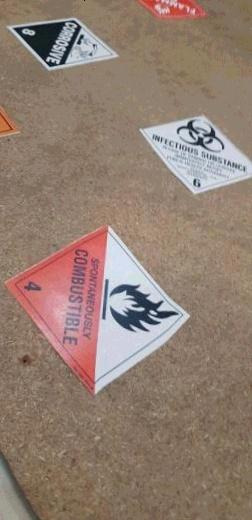corrosive: (4, 14, 120, 77)
flammable: (131, 1, 211, 22)
infectious-substance: (137, 106, 252, 195)
spontaneously-combustible: (1, 223, 192, 401)
